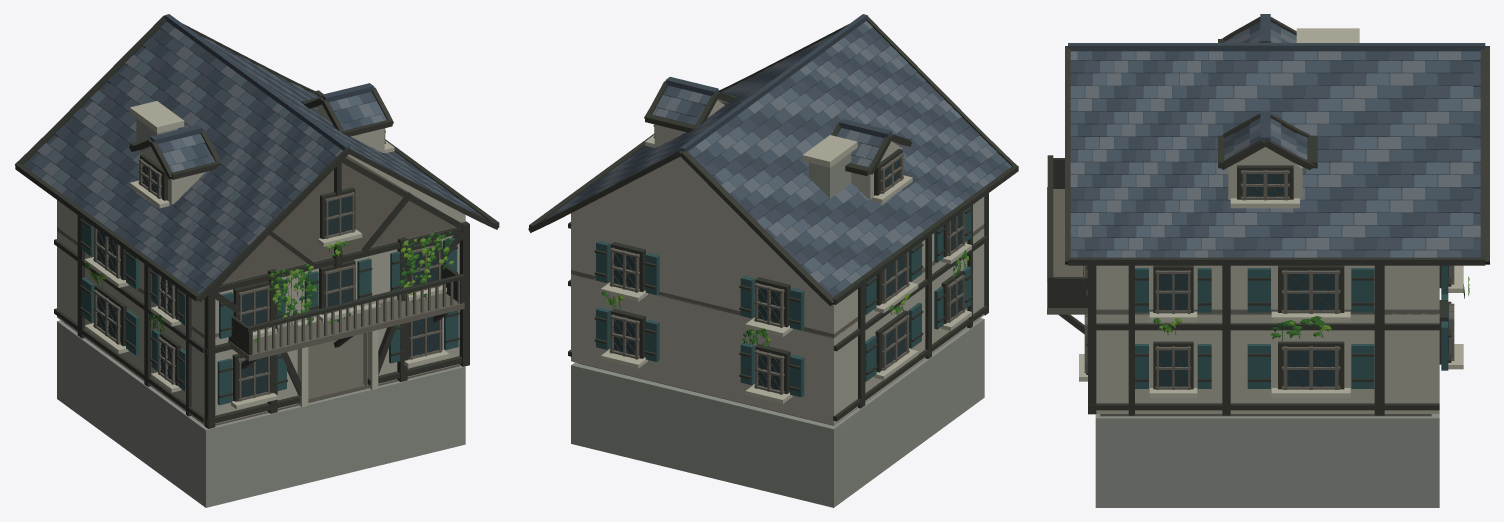
File: alpine_lodge.glb
3 views of the same model, side by side, from view 1: azimuth 30°, elevation 25°; view 2: azimuth 150°, elevation 25°; view 3: azimuth 270°, elevation 25° (orthographic). The views are drawn at different scales.
Visible parts, largest first — view 1: alpine_lodge; view 2: alpine_lodge; view 3: alpine_lodge.
Part boxes in pixels (box(x1,y1,x2,y2)): alpine_lodge: box(14, 14, 499, 507); alpine_lodge: box(528, 14, 1018, 507); alpine_lodge: box(1047, 14, 1489, 507).
Bounding box in the file's own units: 11.68 × 12.44 × 12.79.
